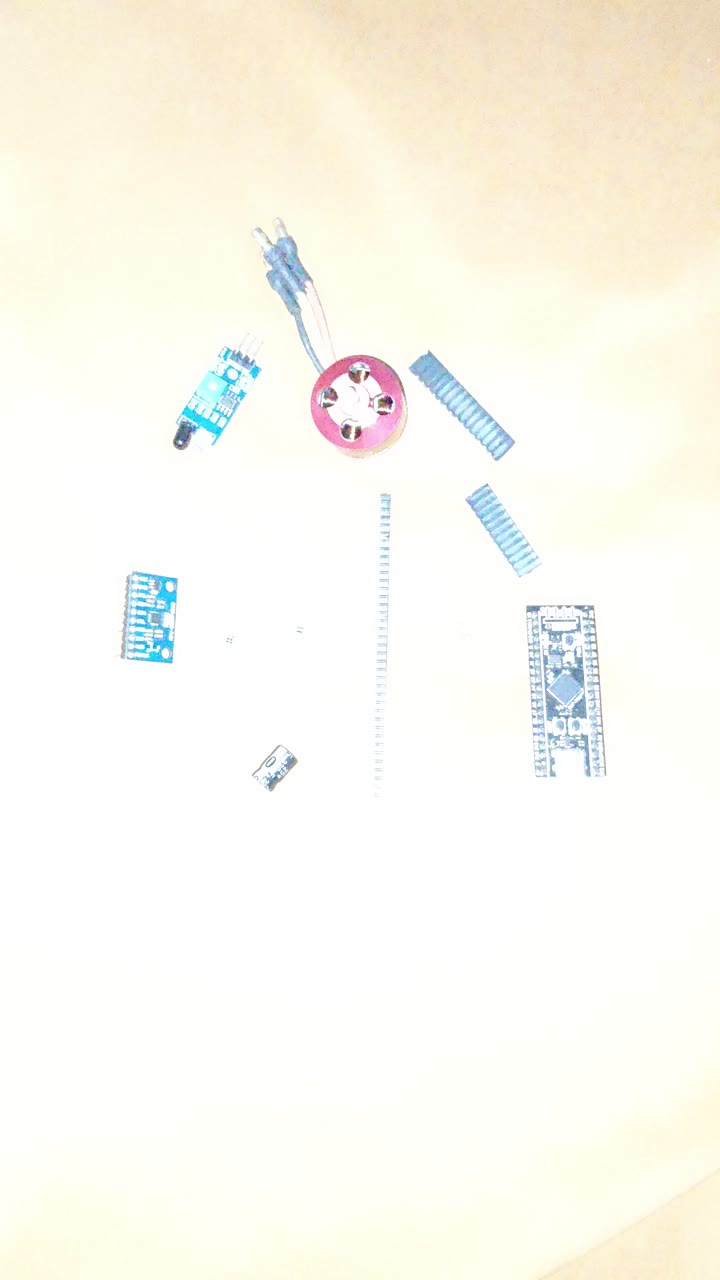bldc_motor: (306, 352, 398, 442)
elco_capacitor: (250, 743, 299, 793)
ir_sensor: (168, 342, 253, 454)
mpu6500: (117, 566, 179, 668)
pin_header: (322, 459, 406, 823), (376, 347, 516, 440), (461, 435, 537, 572)
resistor: (155, 523, 250, 724), (252, 534, 323, 722)
stm32f4: (522, 597, 605, 773)
xt30_female: (392, 579, 477, 664)
